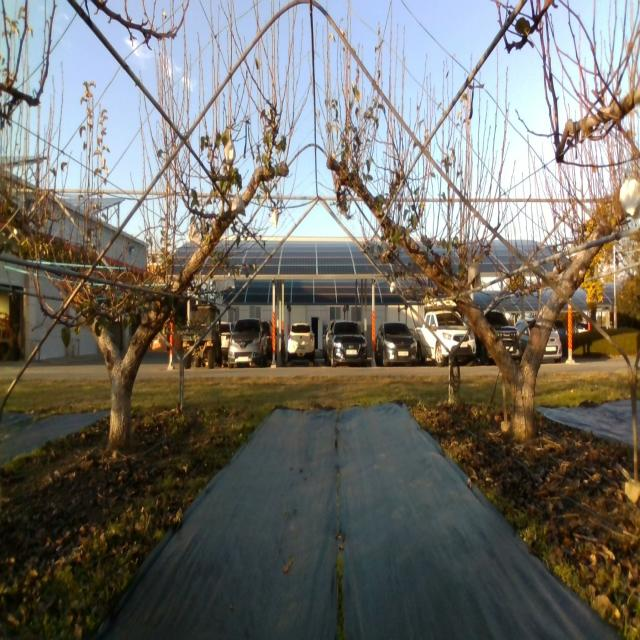pearbags: (619, 178, 640, 216), (468, 262, 482, 288), (223, 138, 235, 166), (189, 219, 202, 244), (232, 194, 246, 217)
